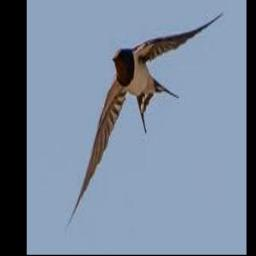Swallow: (65, 13, 224, 231)
